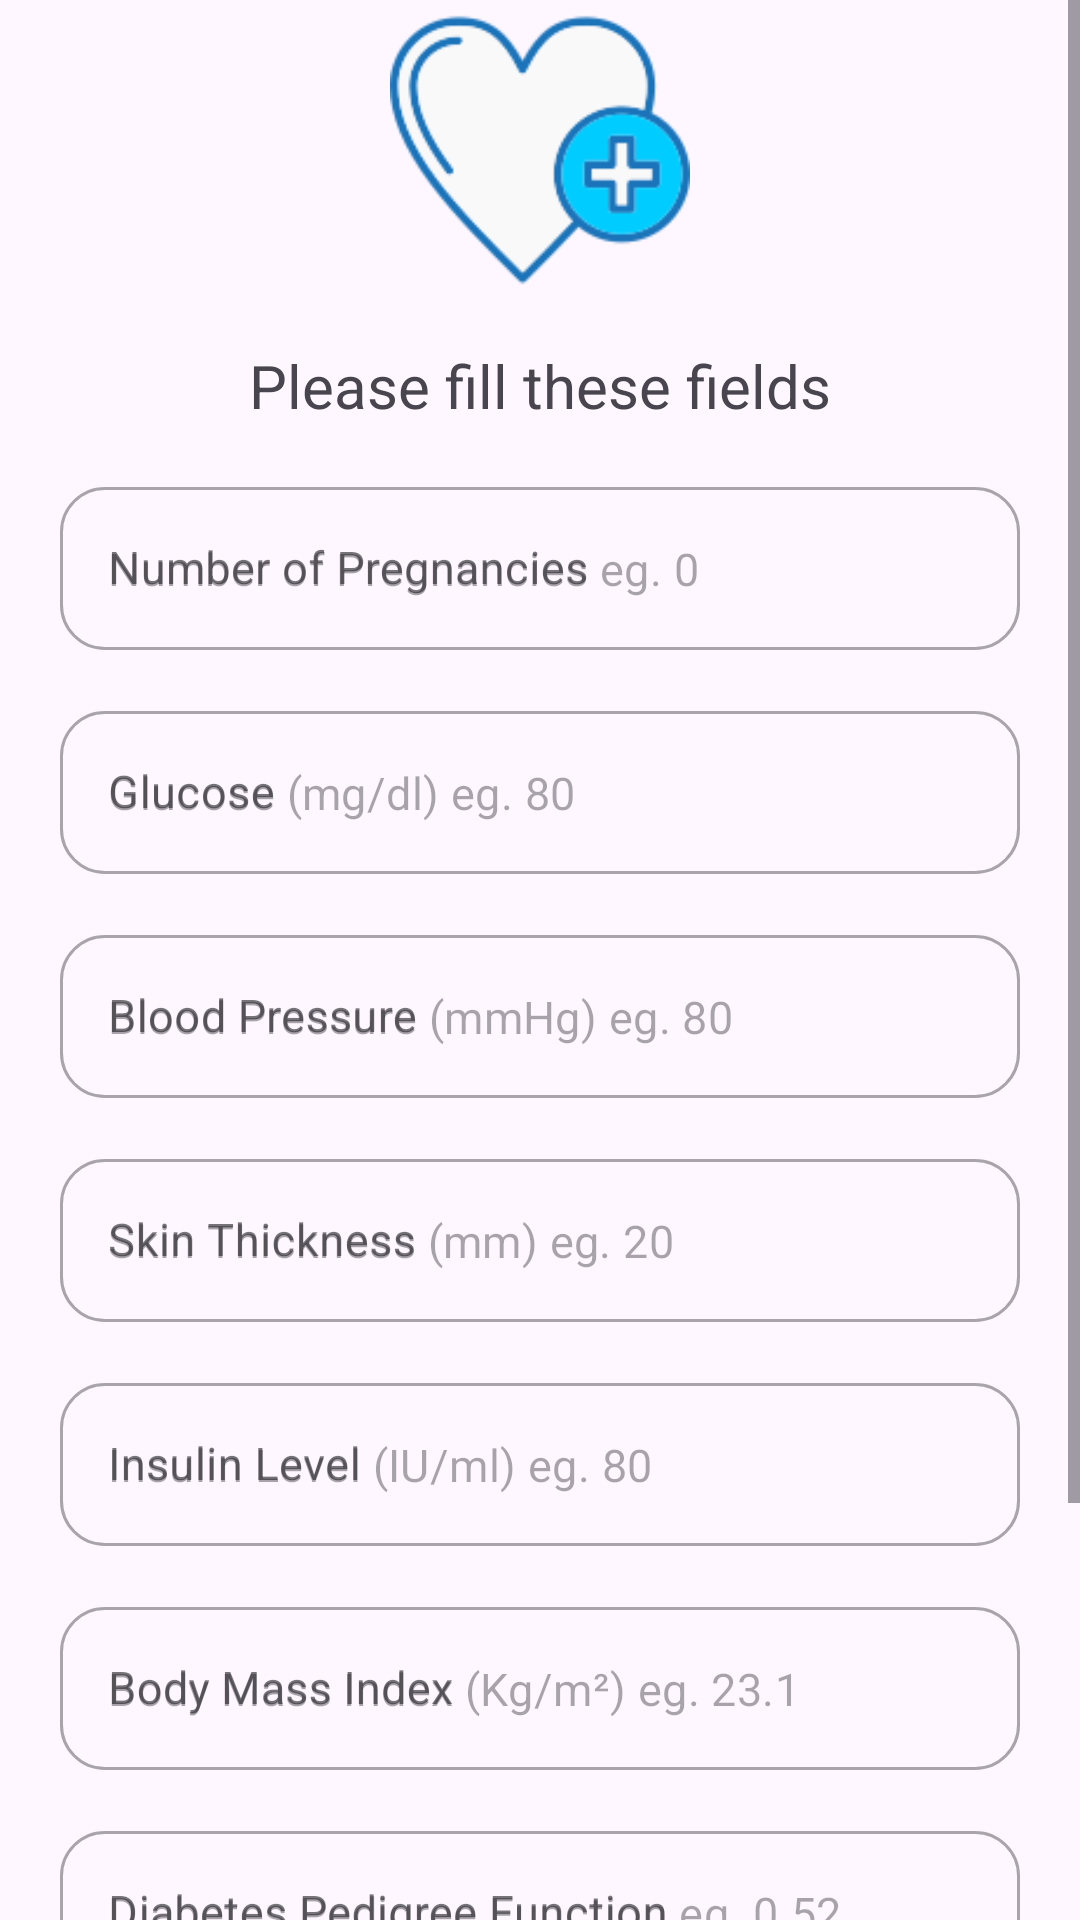

Point at icon controls on the screen. Image size 1080*1920, points as (x,y).
healthcare: (540,150)
